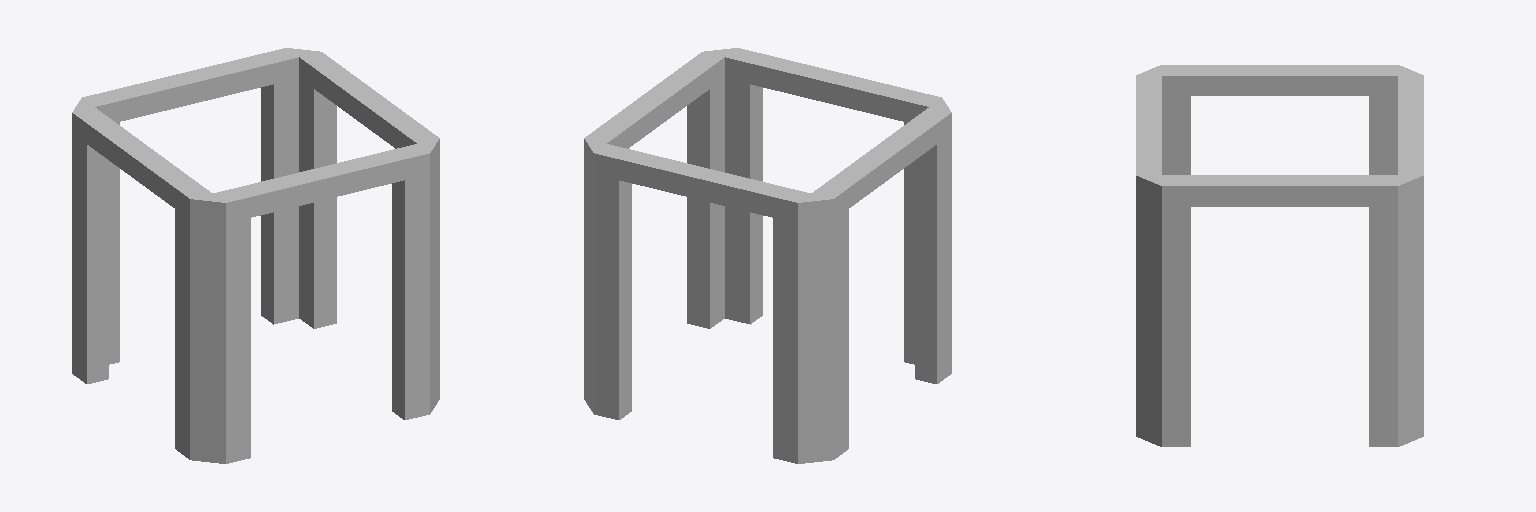
The model's file is metalStructureBottom.obj.
3 renders of one model, left to right at view 1: azimuth 30°, elevation 25°; view 2: azimuth 150°, elevation 25°; view 3: azimuth 270°, elevation 25°, orthographic.
Parts seen in each view (by area): view 1: metalStructureBottom; view 2: metalStructureBottom; view 3: metalStructureBottom.
Part boxes in pixels (x1,y1,x2,y2): metalStructureBottom: (72, 48, 439, 463); metalStructureBottom: (584, 48, 951, 463); metalStructureBottom: (1136, 65, 1423, 446).
Size of the model in its own units: 10 by 10 by 10.